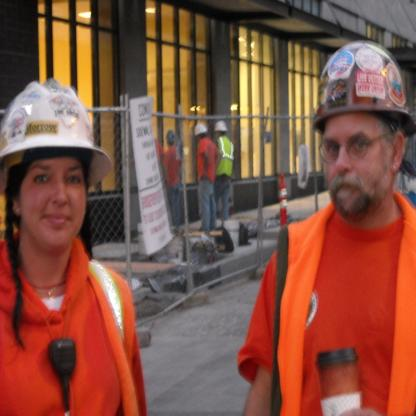Helmet: (307, 40, 416, 177), (0, 78, 113, 193), (190, 122, 210, 139), (212, 118, 228, 135)
